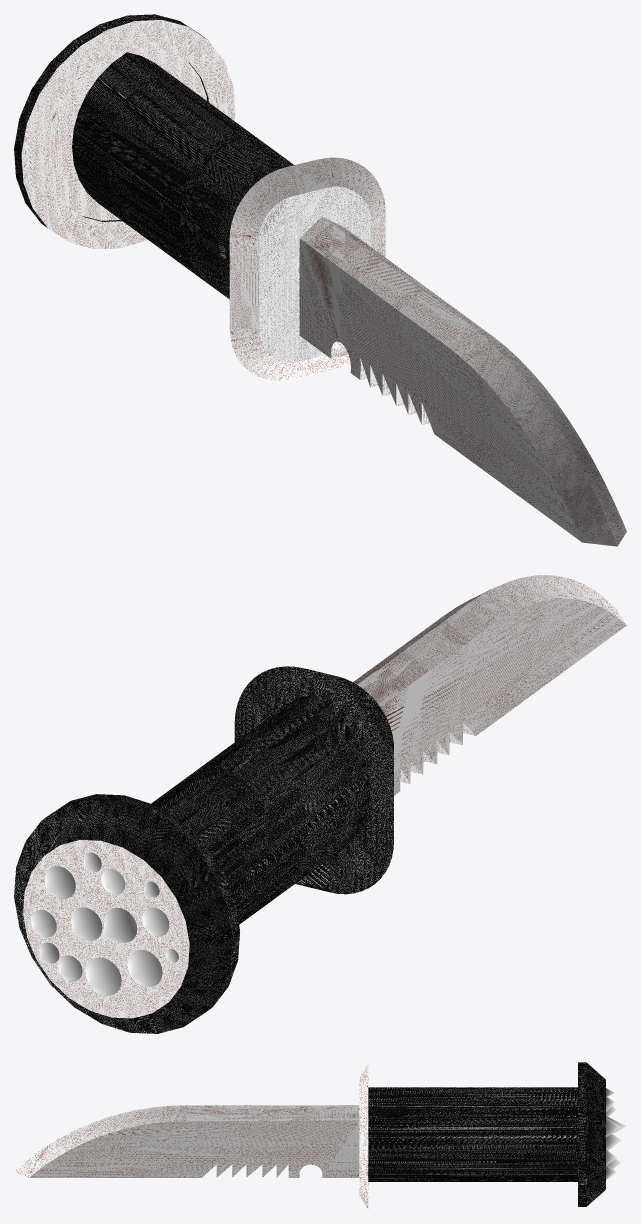
Rendered from model_scale.obj.
The picture shows the model from 3 angles, top to bottom: view 1: azimuth 30°, elevation 25°; view 2: azimuth 150°, elevation 25°; view 3: azimuth 270°, elevation 25°; orthographic projection. The views are drawn at different scales.
Parts seen in each view (by area): view 1: mesh1_mesh1-geometry, mesh2_mesh2-geometry; view 2: mesh1_mesh1-geometry, mesh2_mesh2-geometry; view 3: mesh1_mesh1-geometry, mesh2_mesh2-geometry.
Boxes of the visible parts, x1=… form: mesh1_mesh1-geometry: x1=72, y1=52, x2=626, y2=546; mesh2_mesh2-geometry: x1=14, y1=14, x2=235, y2=249; mesh1_mesh1-geometry: x1=151, y1=575, x2=626, y2=924; mesh2_mesh2-geometry: x1=14, y1=794, x2=239, y2=1033; mesh1_mesh1-geometry: x1=14, y1=1064, x2=577, y2=1209; mesh2_mesh2-geometry: x1=578, y1=1062, x2=626, y2=1206.
Size of the model in its own units: 0.0542 by 0.0542 by 0.23.
